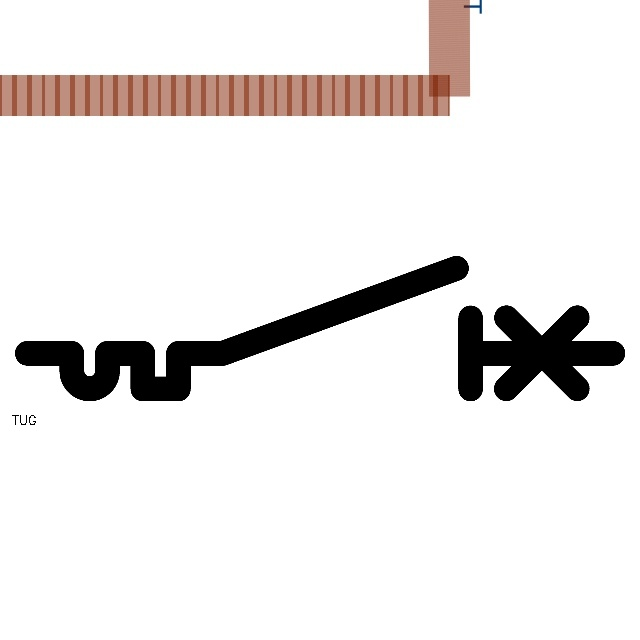interruptor_termomagnetico: (12, 253, 628, 404)
